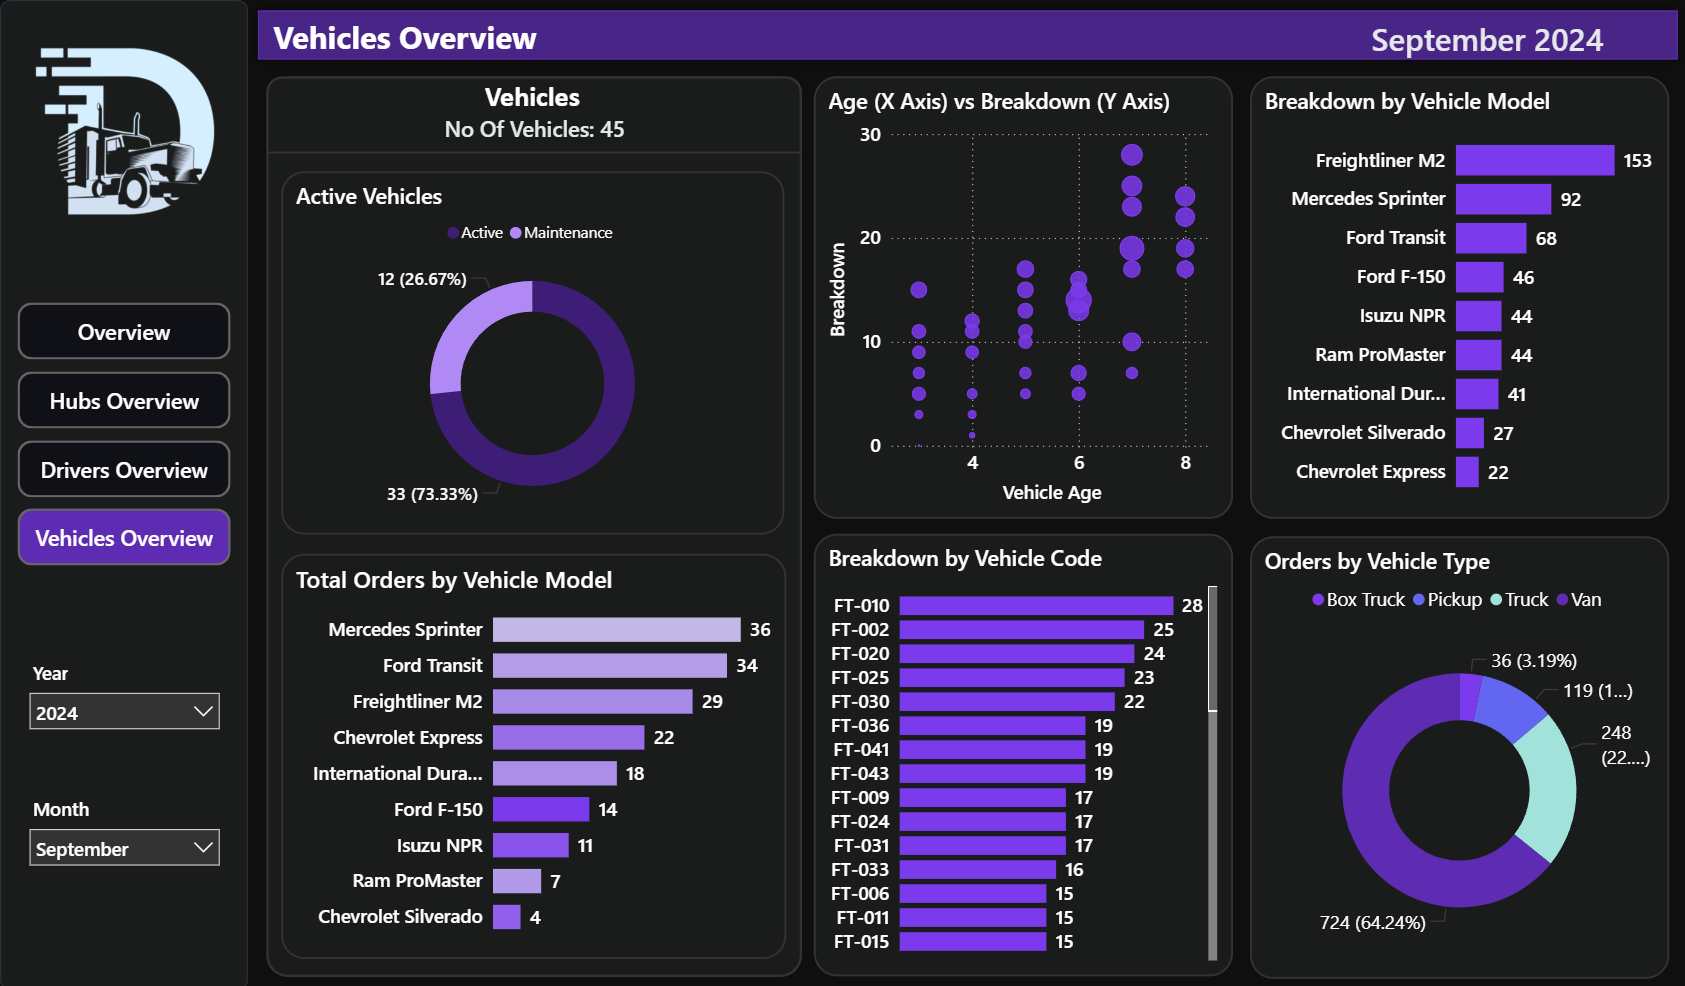

Layout of this report page (visuals, bound fields, positions):
{"tool":"powerbi","page":{"name":"Vehicles Overview","canvas":[1450,850],"ordinal":3},"visuals":[{"type":"shape","box":[212.9,0,1237.1,60],"z":0},{"type":"textbox","box":[230,8.3,718.3,51.7],"z":1000},{"type":"cardVisual","fields":{"Data":["Orders.Year Month Title"]},"box":[1125,5,305,53.3],"z":2000},{"type":"shape","box":[228.3,65,460,773.3],"z":3000},{"type":"shape","box":[228.3,65,460,66.7],"z":4000},{"type":"cardVisual","fields":{"Data":["Vehicles.Total Vehicles"]},"box":[343.3,93.3,231.7,30],"z":5000},{"type":"textbox","box":[405,63.3,105,48.3],"z":6000},{"type":"donutChart","title":"Active Vehicles","fields":{"Category":["Vehicles.Vehicle Status"],"Y":["CountNonNull(Vehicles.Vehicle ID)"]},"box":[241.7,146.7,431.7,311.7],"z":7000},{"type":"barChart","fields":{"Category":["Vehicles.Vehicle Model"],"Y":["Orders.Total Orders"]},"box":[241.7,475,433.3,348.3],"z":8000},{"type":"scatterChart","title":"Age (X Axis) vs Breakdown (Y Axis)","fields":{"X":["Vehicles.Vehicle Age"],"Y":["Vehicles.Breakdown"],"Size":["Sum(Vehicles.Breakdown)1"]},"box":[698.3,65,360,380],"z":9000},{"type":"barChart","title":"Breakdown by Vehicle Model","fields":{"Y":["Sum(Vehicles.Breakdown)"],"Category":["Vehicles.Vehicle Model"]},"box":[1073.3,65,360,380],"z":10000},{"type":"barChart","title":"Breakdown by Vehicle Code","fields":{"Y":["Sum(Vehicles.Breakdown)"],"Category":["Vehicles.Vehicle Code"]},"box":[698.3,458.3,360,380],"z":11000},{"type":"donutChart","title":"Orders by Vehicle Type","fields":{"Series":["Orders.Vehicle Type"],"Y":["Orders.Total Orders"]},"box":[1073.3,460,360,380],"z":12000},{"type":"shape","box":[0,0,212.9,850.3],"z":13000},{"type":"slicer","fields":{"Values":["Date Table.Year"]},"box":[15,561.3,183.3,68.3],"z":14000},{"type":"slicer","fields":{"Values":["Date Table.Month"]},"box":[15,678,183.3,70],"z":15000},{"type":"pageNavigator","box":[15,259.7,183.3,228.3],"z":16000},{"type":"image","box":[15,13.3,188.3,211.7],"z":17000}]}

Visuals, with their boxes on the page's 1450x850 design canvas (x1, y1, x2, y2). These are canvas units, not pixel positions in the 1685x986 screenshot, which may show the page scaled, cropped or inside an application window:
shape: BBox(213, 0, 1450, 60)
textbox: BBox(230, 8, 948, 60)
cardVisual - Orders.Year Month Title: BBox(1125, 5, 1430, 58)
shape: BBox(228, 65, 688, 838)
shape: BBox(228, 65, 688, 132)
cardVisual - Vehicles.Total Vehicles: BBox(343, 93, 575, 123)
textbox: BBox(405, 63, 510, 112)
"Active Vehicles" donutChart: BBox(242, 147, 673, 458)
barChart - Vehicles.Vehicle Model x Orders.Total Orders: BBox(242, 475, 675, 823)
"Age (X Axis) vs Breakdown (Y Axis)" scatterChart: BBox(698, 65, 1058, 445)
"Breakdown by Vehicle Model" barChart: BBox(1073, 65, 1433, 445)
"Breakdown by Vehicle Code" barChart: BBox(698, 458, 1058, 838)
"Orders by Vehicle Type" donutChart: BBox(1073, 460, 1433, 840)
shape: BBox(0, 0, 213, 850)
slicer - Date Table.Year: BBox(15, 561, 198, 630)
slicer - Date Table.Month: BBox(15, 678, 198, 748)
pageNavigator: BBox(15, 260, 198, 488)
image: BBox(15, 13, 203, 225)
